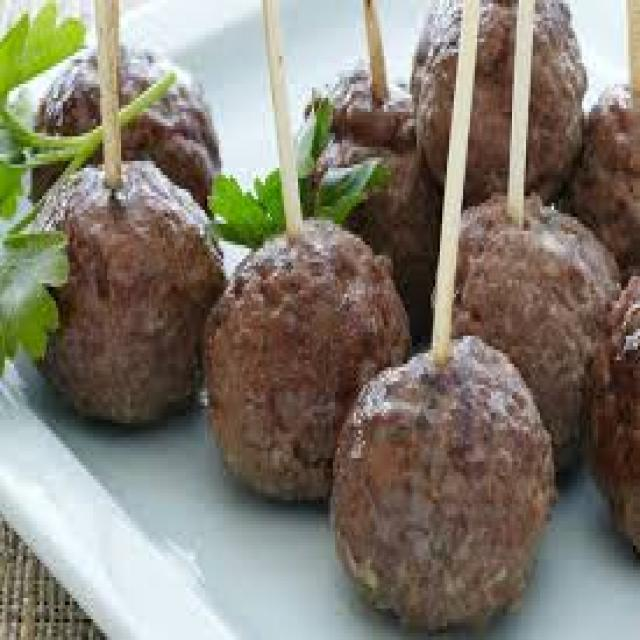Meatball: (321, 332, 560, 627), (185, 202, 408, 508), (25, 153, 219, 432)
